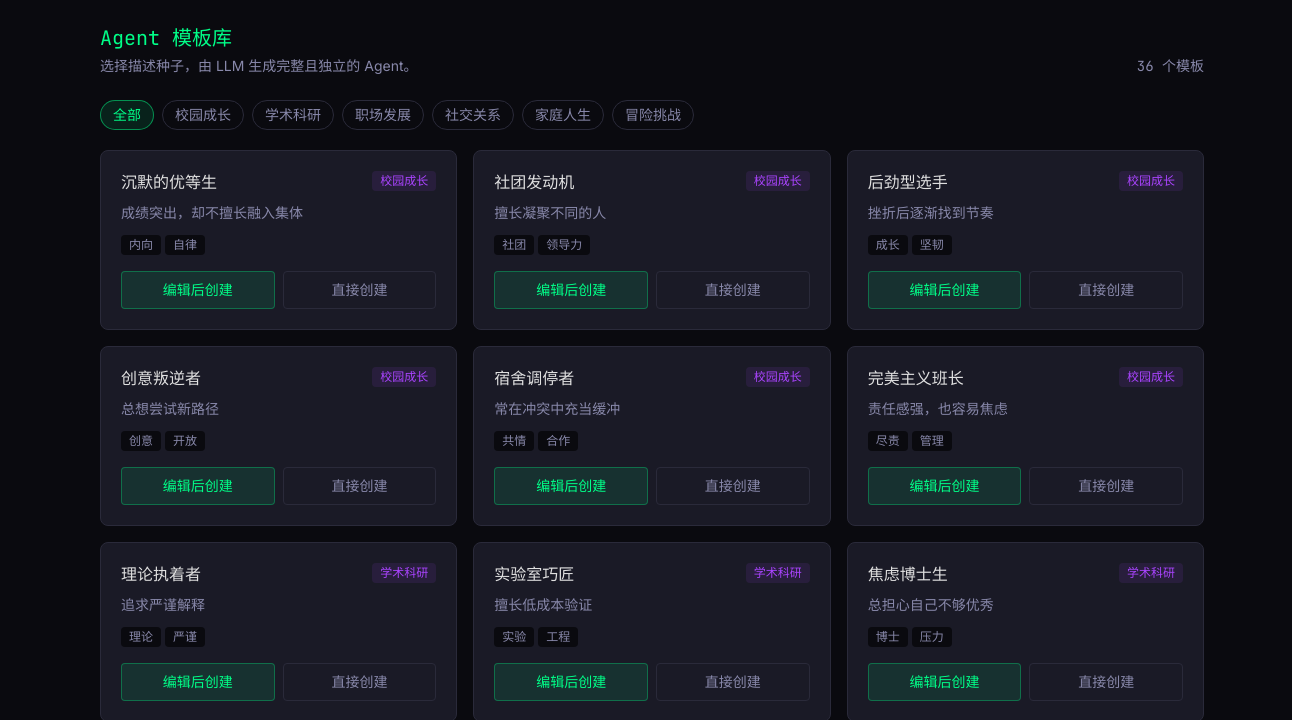
Step 39 TemplateBrowser › provides at least 30 templates and filters by category
Check: the heading "沉默的优等生" is shown, box [121,171,217,195]
Click the button "学术科研": (293, 115) [252,100,334,130]
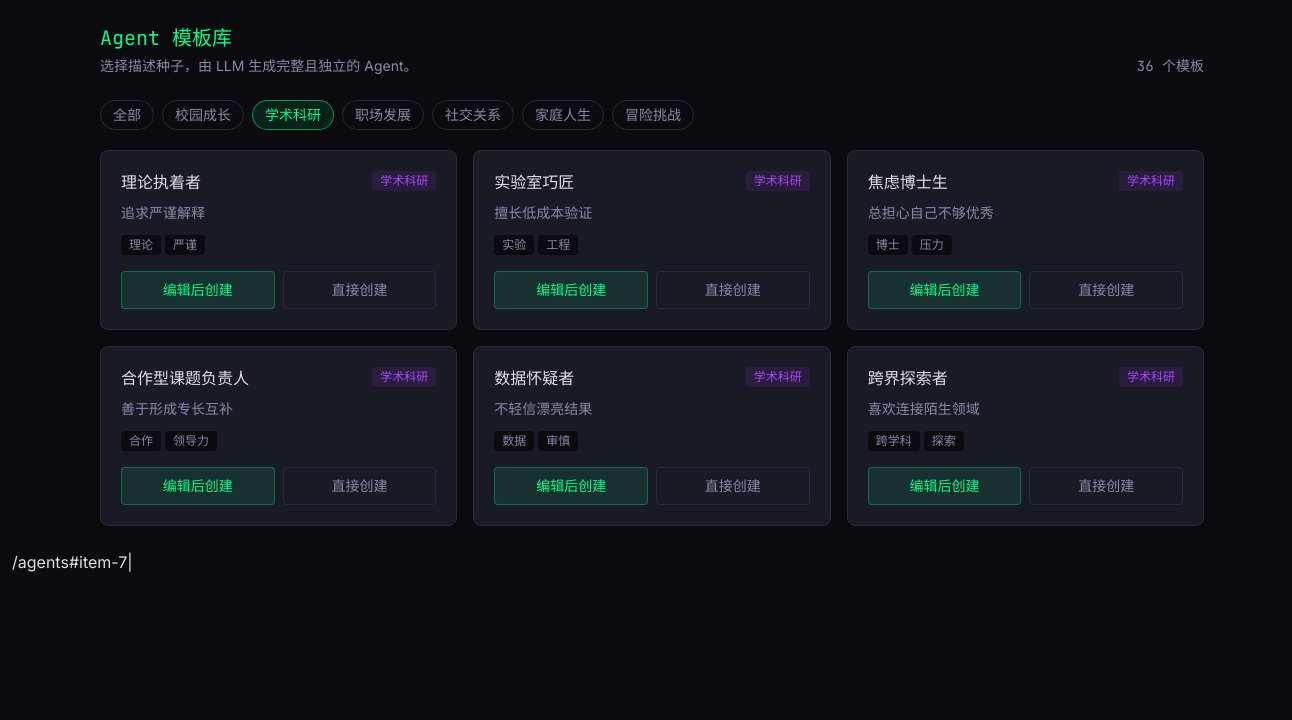
Check: the heading "理论执着者" is shown, box [121,171,201,195]
Check: the heading "沉默的优等生" is gone
